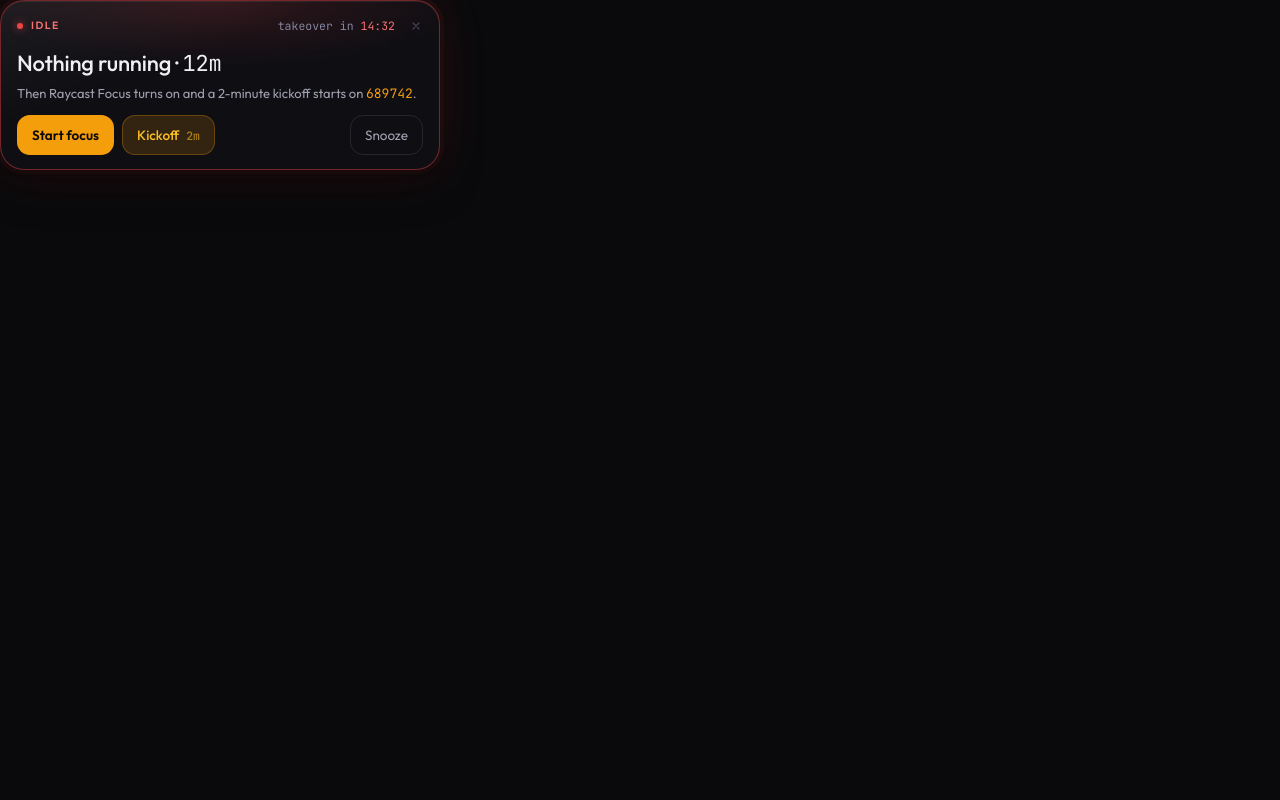
IdleNudgeCard › Snooze opens the choice row (15m · 1h · Rest of day) without relaying anything, and closes it again
The image size is (1280, 800).
Click the button "Snooze" at (386, 135), box [350, 115, 423, 155]
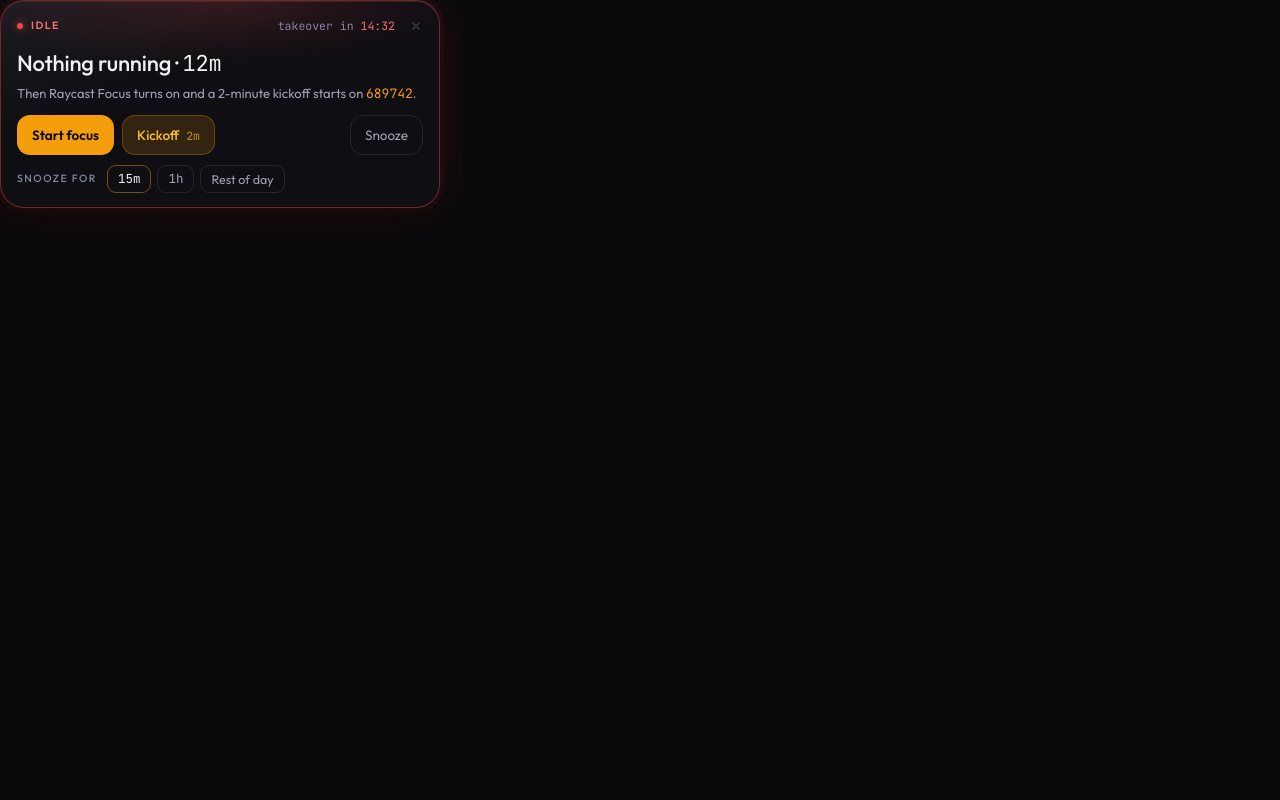
Check: the element "Snooze for" reads "Snooze for 15m 1h Rest of day", box [17, 165, 285, 193]
Click the button "Snooze" at (386, 135), box [350, 115, 423, 155]
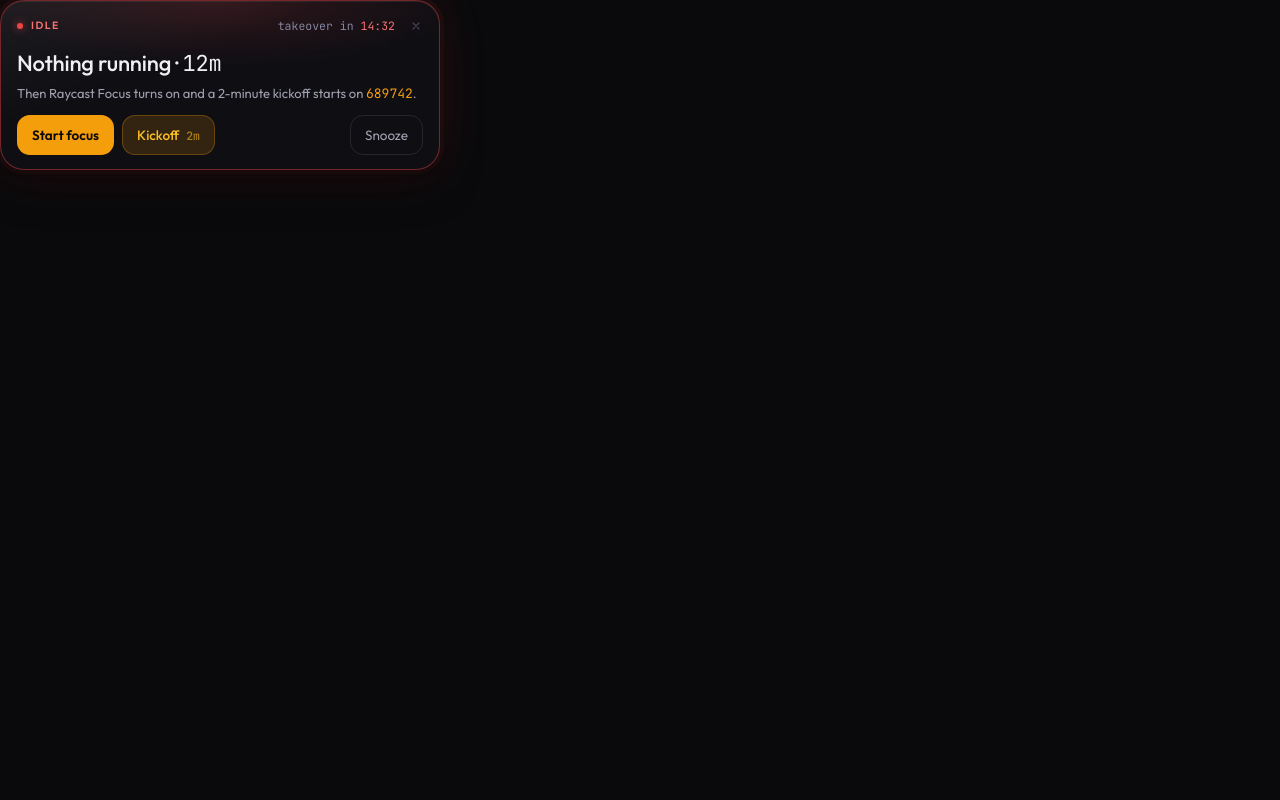
Check: the element with test id "nudge-snooze-choices" is gone
